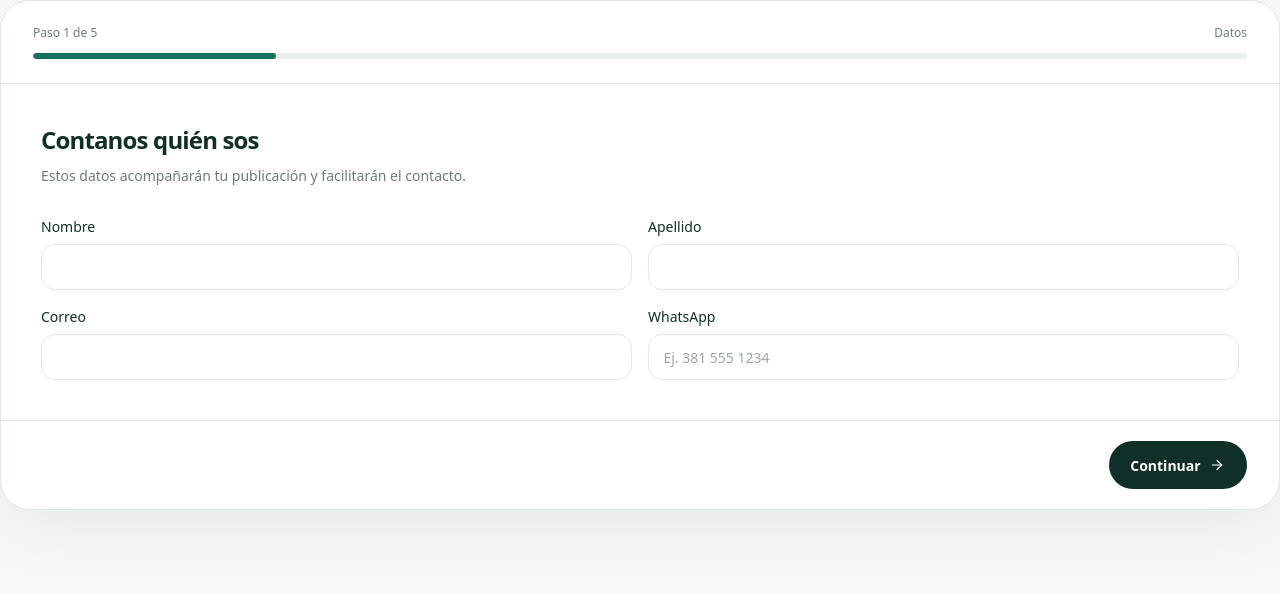
ProfileWizard › bloquea el avance si faltan datos básicos
Expected: the heading "Contanos quién sos" is shown, [41, 123, 259, 156]
What coordinates should you click on to do the following:
click the button "Continuar"
I would click on:
 (1178, 465)
Its box is [1109, 441, 1247, 489].
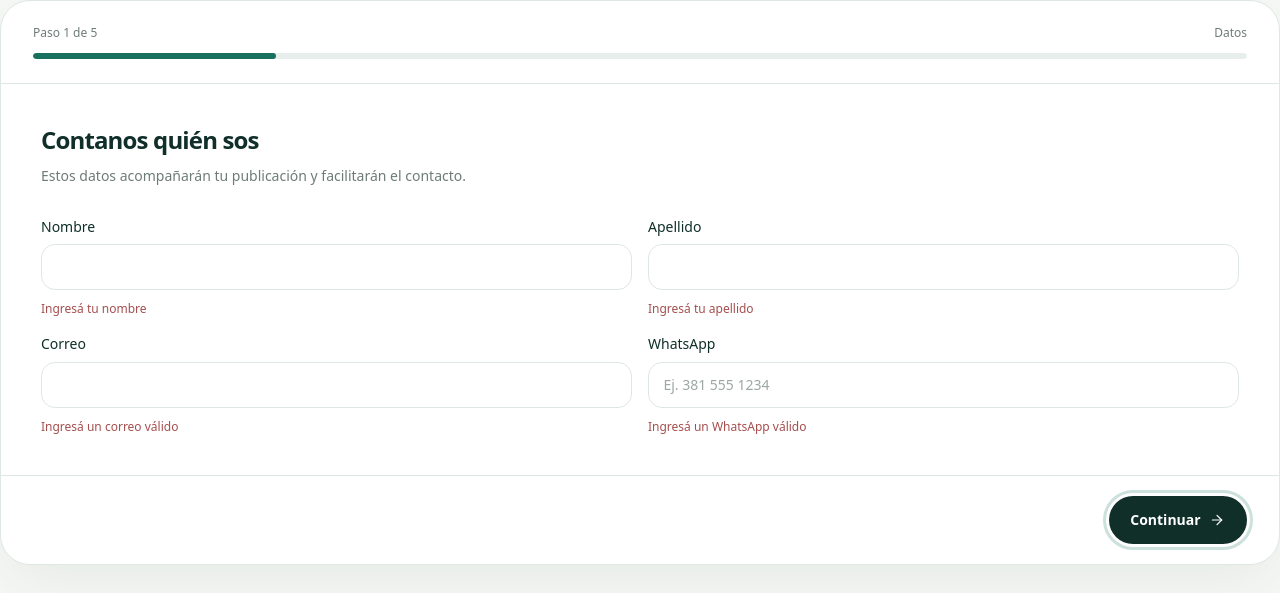
Expected: the text "Ingresá tu nombre" is shown, [41, 300, 147, 317]
Expected: the text "Ingresá un correo válido" is shown, [41, 418, 178, 435]
